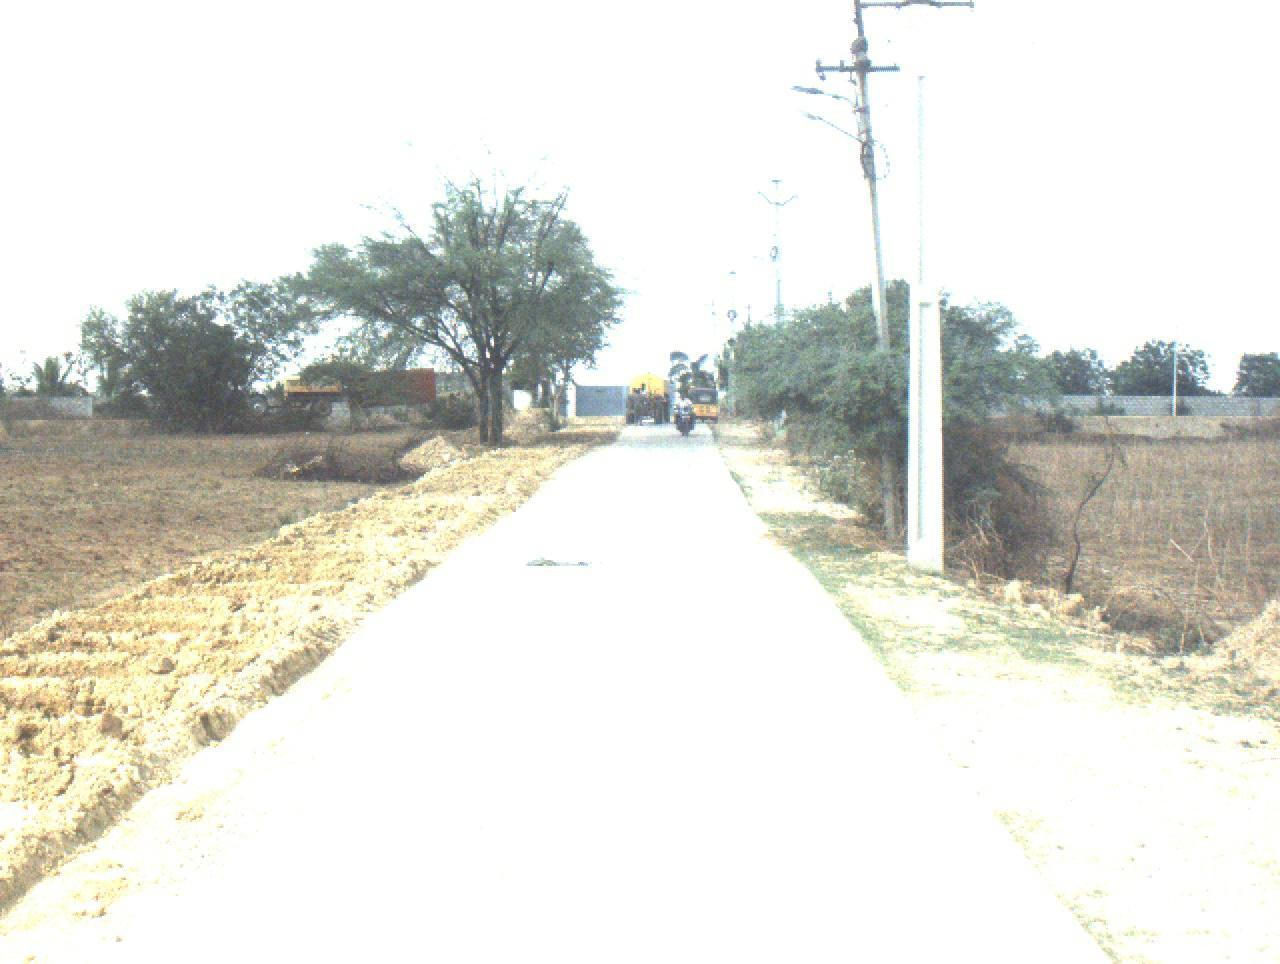off: (15, 0, 1127, 964)
